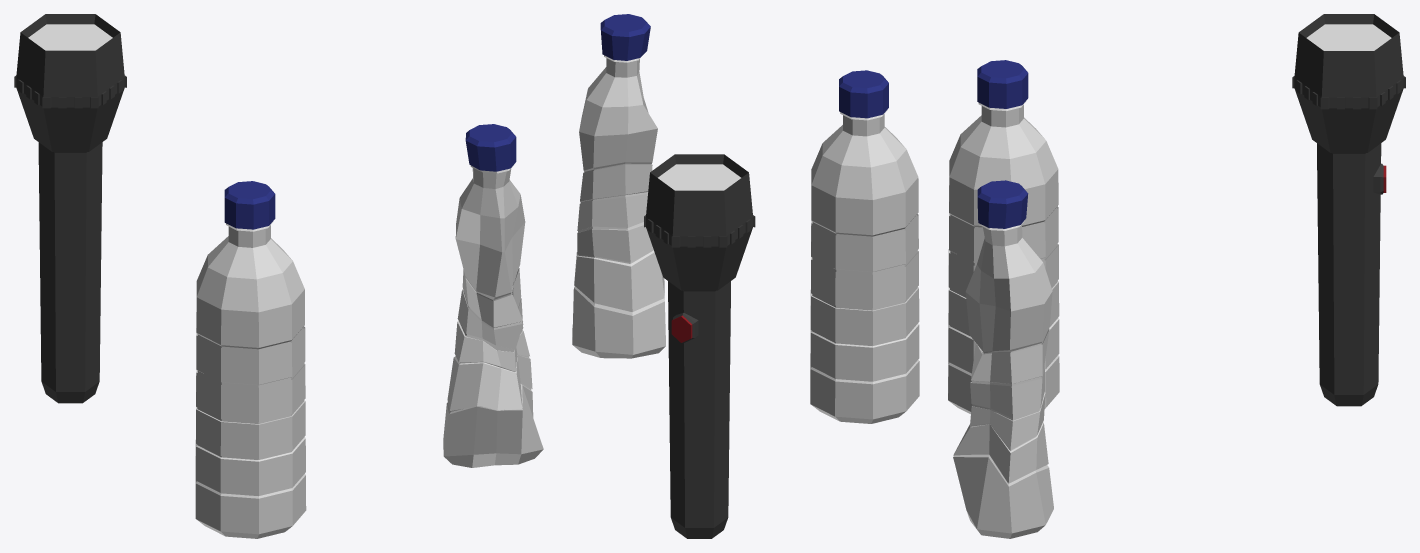
File: Bottle3.fbx
The picture shows the model from 3 angles, left to right: view 1: azimuth 30°, elevation 25°; view 2: azimuth 150°, elevation 25°; view 3: azimuth 270°, elevation 25°; orthographic projection.
Parts seen in each view (by area): view 1: Circle.003, Circle.002, Circle.009; view 2: Circle.003, Circle.002, Circle.009; view 3: Circle.002, Circle.009, Circle.003.
Part boxes in pixels (x1=…): Circle.003: x1=195, y1=181, x2=306, y2=538; Circle.002: x1=14, y1=14, x2=126, y2=403; Circle.009: x1=443, y1=124, x2=543, y2=467; Circle.003: x1=810, y1=70, x2=919, y2=423; Circle.002: x1=644, y1=154, x2=755, y2=538; Circle.009: x1=572, y1=14, x2=665, y2=358; Circle.002: x1=1292, y1=14, x2=1405, y2=406; Circle.009: x1=953, y1=180, x2=1053, y2=538; Circle.003: x1=948, y1=60, x2=1059, y2=414.
Bounding box in the file's own units: 173 × 177 × 201.
